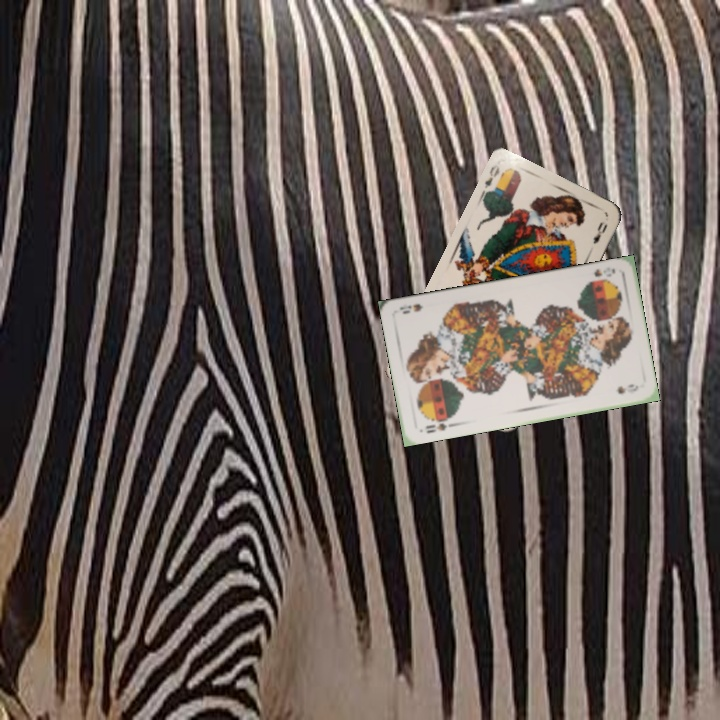EO: (477, 160, 506, 199)
SO: (421, 414, 455, 436), (590, 264, 618, 279)
